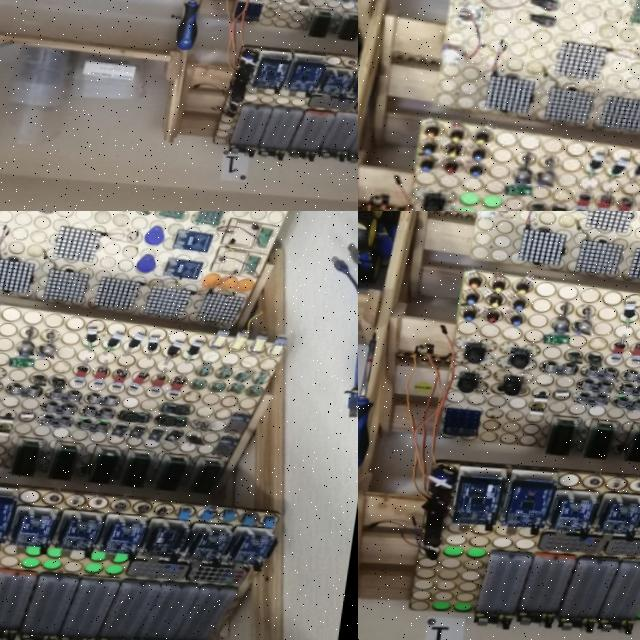Green-circles: (86, 547, 137, 578), (28, 540, 71, 576), (456, 186, 506, 211), (446, 541, 499, 564), (436, 599, 484, 618)
